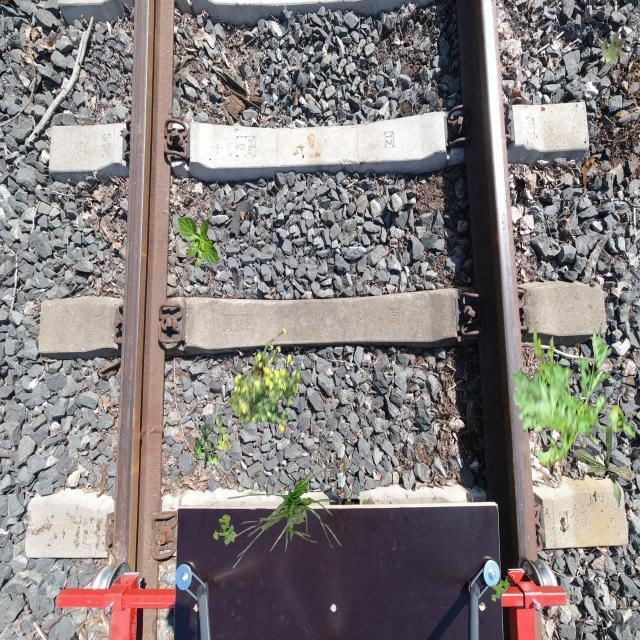Plant: (511, 326, 636, 473), (225, 447, 344, 570), (228, 327, 303, 432), (573, 424, 637, 508), (177, 215, 218, 268), (194, 415, 232, 470), (598, 34, 624, 66), (213, 514, 237, 544), (491, 577, 511, 602)
